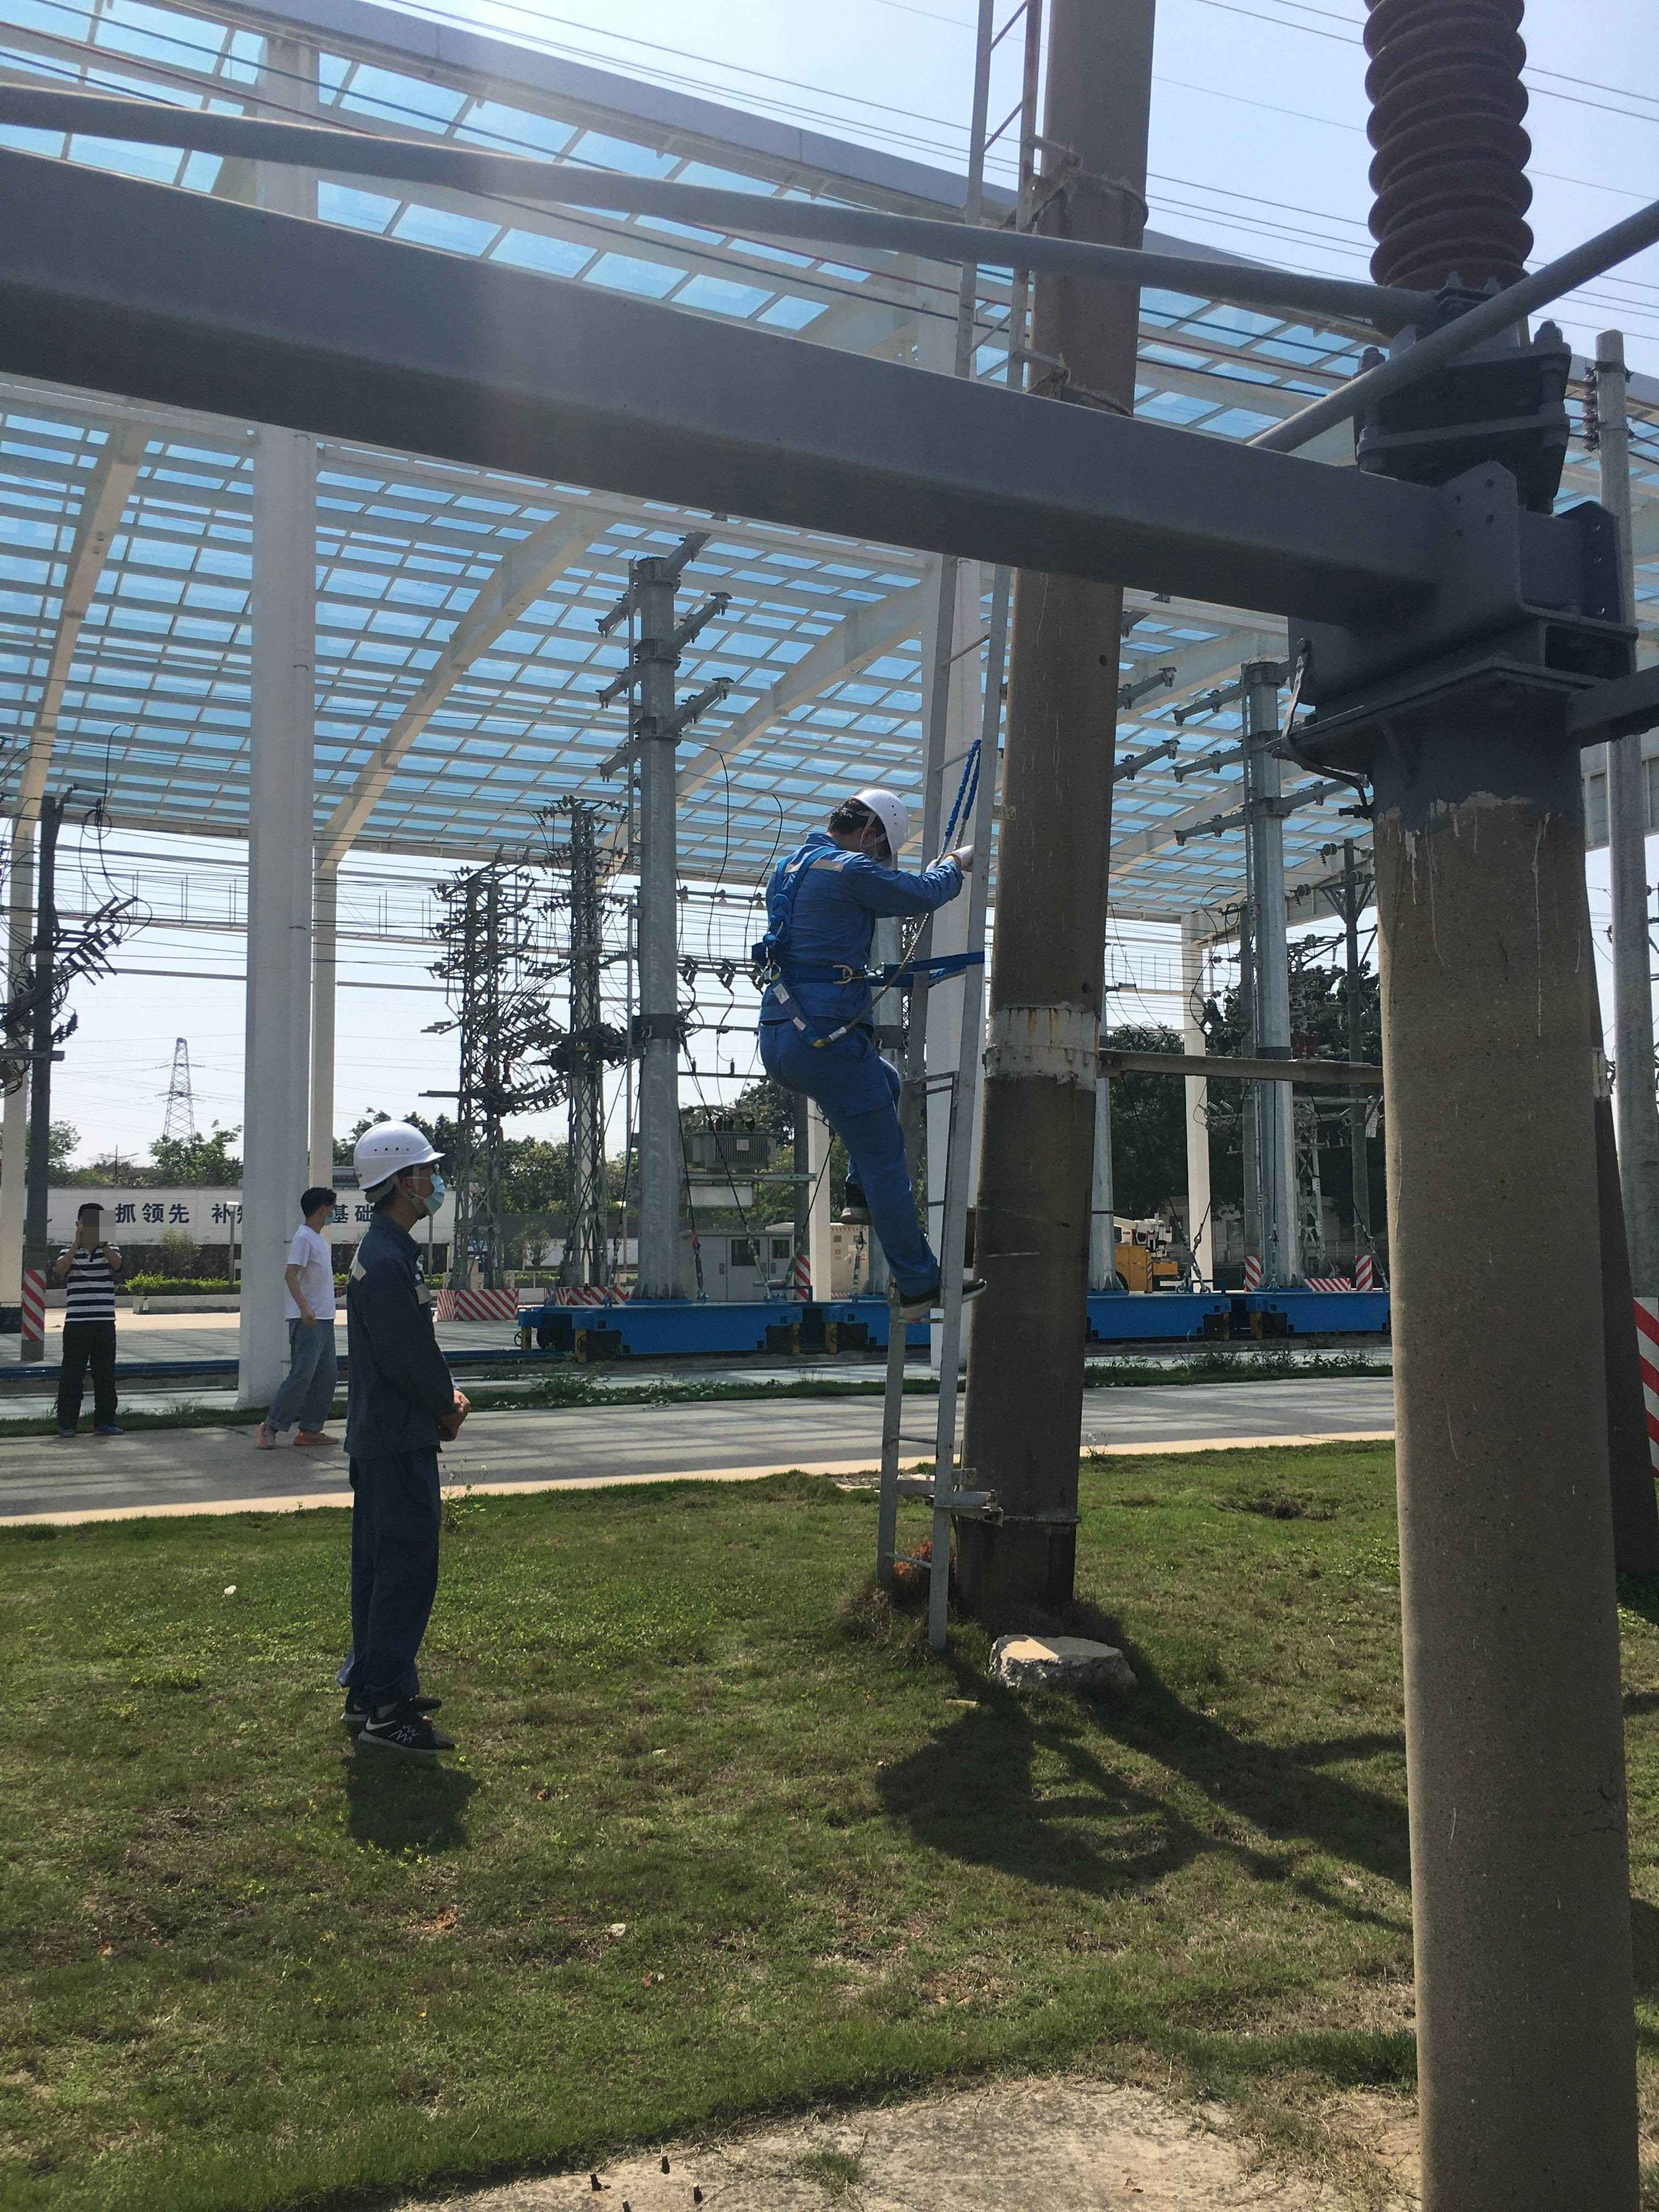downcloth: (59, 1329, 120, 1416), (286, 1331, 338, 1406)
downsuit: (760, 1028, 931, 1271), (362, 1456, 446, 1716)
upcloth: (282, 1240, 342, 1324), (64, 1244, 124, 1317)
upsuit: (356, 1230, 439, 1446), (770, 848, 877, 1017)
